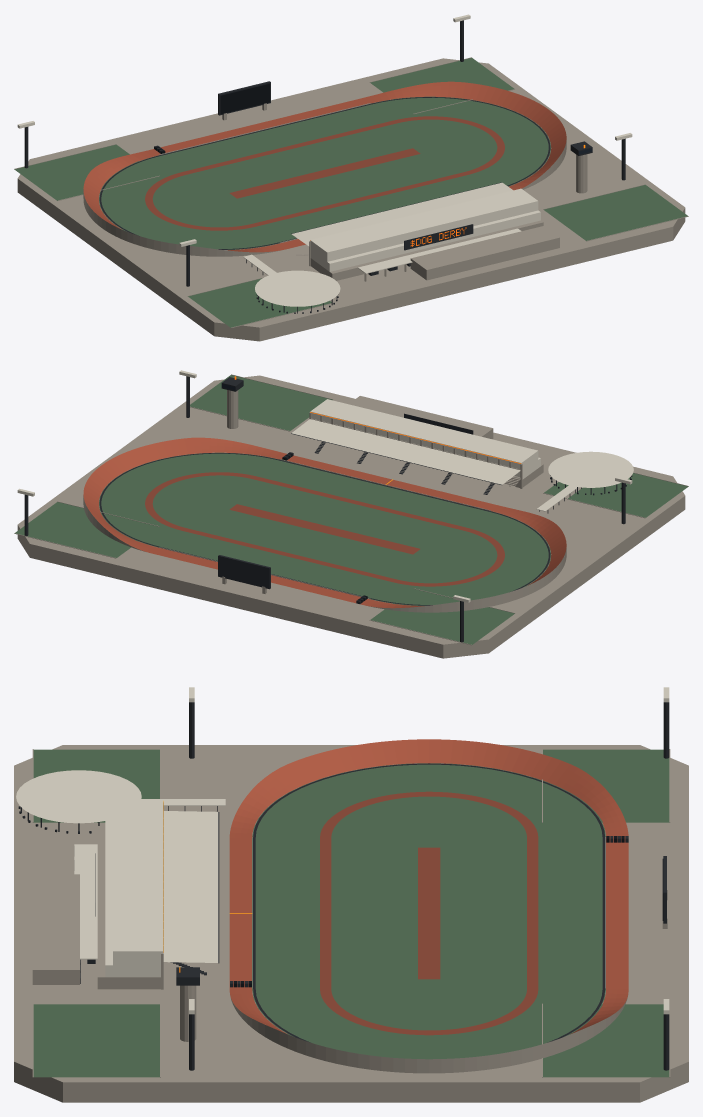
File: dog-derby-base.glb
3 renders of one model, top to bottom at view 1: azimuth 30°, elevation 25°; view 2: azimuth 150°, elevation 25°; view 3: azimuth 270°, elevation 25°, orthographic. The views are drawn at different scales.
Parts seen in each view (by area): view 1: DERBY_BASE; view 2: DERBY_BASE; view 3: DERBY_BASE.
Boxes of the visible parts, x1,y1,x2,y2 form: DERBY_BASE: [14, 14, 688, 341]; DERBY_BASE: [14, 370, 688, 658]; DERBY_BASE: [14, 687, 688, 1102].
Bounding box in the file's own units: 424 × 53.41 × 358.
